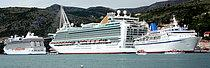Ship: (50, 8, 153, 55), (135, 20, 206, 55), (1, 32, 49, 58)
